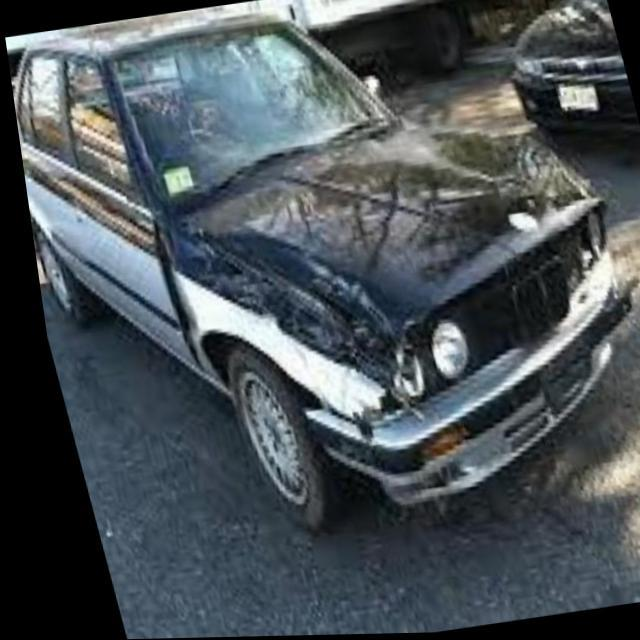dent: (154, 224, 402, 452)
